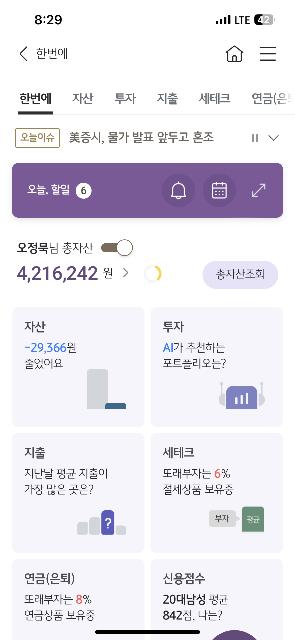Card: (13, 307, 145, 427), (12, 432, 144, 552), (151, 432, 283, 552), (151, 308, 283, 427), (12, 163, 284, 217), (12, 558, 144, 640), (152, 558, 284, 640)
Icon: (88, 369, 126, 408), (210, 506, 264, 532), (77, 509, 127, 535), (144, 265, 162, 283), (226, 46, 244, 62), (171, 181, 186, 199), (212, 182, 228, 198), (260, 48, 276, 61), (254, 182, 266, 198), (20, 47, 28, 61), (269, 135, 279, 141), (252, 134, 258, 142), (124, 268, 128, 278)
Image: (219, 382, 265, 408)
ImageButton: (162, 174, 196, 206), (204, 174, 236, 206)
Multi_Tab: (0, 90, 295, 113)
Switch: (101, 240, 133, 256)
Text: (24, 448, 108, 494), (162, 446, 234, 496), (24, 572, 94, 620), (163, 574, 228, 620), (70, 132, 214, 144), (164, 343, 226, 369), (18, 266, 112, 282), (24, 343, 75, 369), (17, 242, 93, 254), (217, 268, 264, 280), (27, 184, 68, 196), (253, 93, 288, 105), (36, 49, 68, 60), (20, 94, 50, 105), (200, 94, 230, 105), (21, 134, 55, 142), (72, 94, 94, 105), (158, 92, 178, 104), (116, 94, 136, 105), (24, 322, 46, 332), (164, 322, 184, 332), (82, 186, 86, 194)
TextButton: (203, 261, 279, 289), (16, 128, 60, 148), (76, 183, 92, 199)
Toolbar: (0, 40, 295, 75)
UpperTaskBar: (0, 0, 295, 38)
